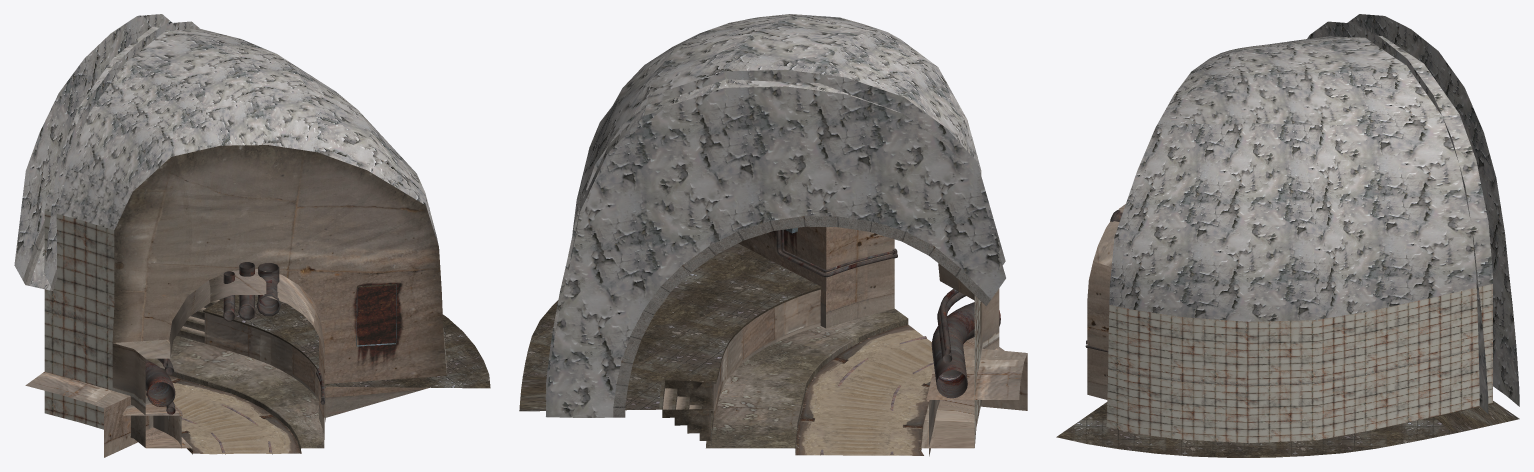
File: FBX_corner_section_a_rev.fbx
3 renders of one model, left to right at view 1: azimuth 30°, elevation 25°; view 2: azimuth 150°, elevation 25°; view 3: azimuth 270°, elevation 25°, orthographic. The views are drawn at different scales.
Visible parts, largest first — view 1: corner_section_a_arch_1, corner_section_a_ceiling, corner_section_a_tile_wall, section_corner_arch_2, corner_section_a_lower_floor_1, corner_section_a_ground, corner_section_a_upperLevel_floor, corner_section_a_sideWall, corner_section_a_shelf_b, corner_section_a_shelf_a, corner_section_a_drain_pipe_a, corner_section_a_roof_pipe_a2 (+4 smaller); view 2: section_corner_arch_2, corner_section_a_ceiling, corner_section_a_upperLevel_floor, corner_section_a_ground, corner_section_a_lower_floor_1, corner_section_a_arch_1, corner_section_a_arch_2_bricks, corner_section_a_shelf_b, corner_section_a_sideWall, corner_section_steps, corner_section_a_drain_pipe_a, corner_section_a_lower_floor_2 (+3 smaller); view 3: corner_section_a_ceiling, corner_section_a_tile_wall, section_corner_arch_2, corner_section_a_upperLevel_floor, corner_section_a_arch_1, corner_section_a_upperLevel_floor_b.
Boxes of the visible parts, x1,y1,x2,y2 form: corner_section_a_arch_1: (112,145,446,447); corner_section_a_ceiling: (44,26,438,246); corner_section_a_tile_wall: (44,211,446,429); section_corner_arch_2: (14,14,199,290); corner_section_a_lower_floor_1: (146,336,324,452); corner_section_a_ground: (168,375,301,454); corner_section_a_upperLevel_floor: (203,295,490,388); corner_section_a_sideWall: (204,312,325,421); corner_section_a_shelf_b: (25,372,153,457); corner_section_a_shelf_a: (122,397,182,447); corner_section_a_drain_pipe_a: (145,359,175,406); corner_section_a_roof_pipe_a2: (256,263,280,316); section_corner_arch_2: (545,69,1005,417); corner_section_a_ceiling: (570,14,980,259); corner_section_a_upperLevel_floor: (523,243,822,381); corner_section_a_ground: (795,324,933,455); corner_section_a_lower_floor_1: (706,308,908,452); corner_section_a_arch_1: (738,226,999,407); corner_section_a_arch_2_bricks: (613,216,990,417); corner_section_a_shelf_b: (926,347,1027,456); corner_section_a_sideWall: (713,289,820,420); corner_section_steps: (659,380,716,445); corner_section_a_drain_pipe_a: (931,302,1000,398); corner_section_a_lower_floor_2: (921,400,974,451); corner_section_a_ceiling: (1109,35,1492,321); corner_section_a_tile_wall: (1106,284,1492,442); section_corner_arch_2: (1307,14,1519,414); corner_section_a_upperLevel_floor: (1056,402,1453,457); corner_section_a_arch_1: (1087,204,1125,399); corner_section_a_upperLevel_floor_b: (1434,401,1519,433).
Size of the model in its own units: 8.71 by 6.86 by 8.41.
